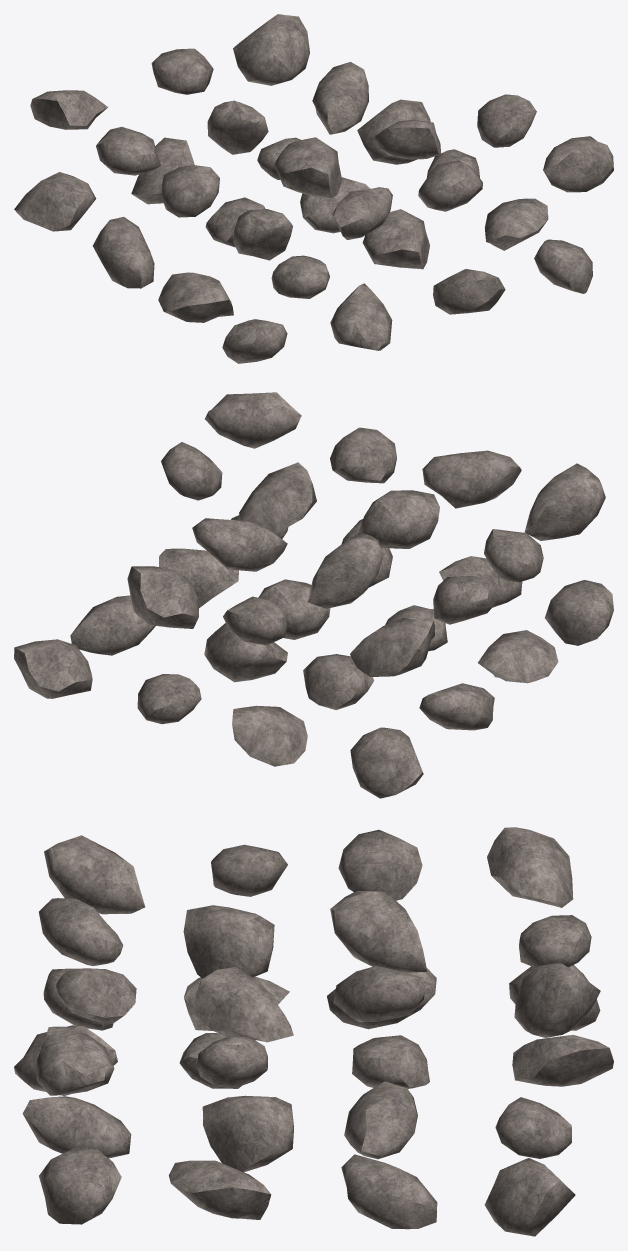
Rendered from FUN-PED-002_anim.glb.
3 renders of one model, top to bottom at view 1: azimuth 30°, elevation 25°; view 2: azimuth 150°, elevation 25°; view 3: azimuth 270°, elevation 25°, orthographic. The views are drawn at different scales.
Parts seen in each view (by area): view 1: FUN-PED-002_anim27, FUN-PED-002_anim3, FUN-PED-002_anim21, FUN-PED-002_anim2, FUN-PED-002_anim28, FUN-PED-002_anim26, FUN-PED-002_anim9, FUN-PED-002_anim4, FUN-PED-002_anim1, FUN-PED-002_anim8, FUN-PED-002_anim17, FUN-PED-002_anim22 (+18 smaller); view 2: FUN-PED-002_anim16, FUN-PED-002_anim20, FUN-PED-002_anim28, FUN-PED-002_anim3, FUN-PED-002_anim22, FUN-PED-002_anim27, FUN-PED-002_anim21, FUN-PED-002_anim7, FUN-PED-002_anim15, FUN-PED-002_anim19, FUN-PED-002_anim26, FUN-PED-002_anim25 (+17 smaller); view 3: FUN-PED-002_anim9, FUN-PED-002_anim22, FUN-PED-002_anim16, FUN-PED-002_anim21, FUN-PED-002_anim19, FUN-PED-002_anim25, FUN-PED-002_anim14, FUN-PED-002_anim12, FUN-PED-002_anim8, FUN-PED-002_anim15, FUN-PED-002_anim27, FUN-PED-002_anim18 (+18 smaller).
Boxes of the visible parts, bbox=[...] form: FUN-PED-002_anim27: bbox=[233, 14, 309, 85]; FUN-PED-002_anim3: bbox=[14, 172, 96, 231]; FUN-PED-002_anim21: bbox=[274, 137, 342, 197]; FUN-PED-002_anim2: bbox=[92, 217, 154, 288]; FUN-PED-002_anim28: bbox=[543, 136, 613, 192]; FUN-PED-002_anim26: bbox=[312, 62, 368, 134]; FUN-PED-002_anim9: bbox=[362, 209, 429, 269]; FUN-PED-002_anim4: bbox=[330, 283, 392, 350]; FUN-PED-002_anim1: bbox=[158, 272, 233, 322]; FUN-PED-002_anim8: bbox=[433, 269, 505, 314]; FUN-PED-002_anim17: bbox=[161, 165, 219, 217]; FUN-PED-002_anim22: bbox=[207, 100, 268, 154]; FUN-PED-002_anim16: bbox=[524, 463, 605, 540]; FUN-PED-002_anim20: bbox=[422, 450, 521, 508]; FUN-PED-002_anim28: bbox=[205, 392, 301, 448]; FUN-PED-002_anim3: bbox=[350, 727, 423, 798]; FUN-PED-002_anim22: bbox=[307, 532, 383, 608]; FUN-PED-002_anim27: bbox=[127, 566, 198, 628]; FUN-PED-002_anim21: bbox=[358, 490, 439, 548]; FUN-PED-002_anim7: bbox=[232, 705, 307, 766]; FUN-PED-002_anim15: bbox=[14, 639, 92, 698]; FUN-PED-002_anim19: bbox=[350, 617, 434, 676]; FUN-PED-002_anim26: bbox=[192, 518, 287, 571]; FUN-PED-002_anim25: bbox=[239, 462, 316, 532]; FUN-PED-002_anim9: bbox=[202, 1095, 293, 1172]; FUN-PED-002_anim22: bbox=[330, 890, 427, 972]; FUN-PED-002_anim16: bbox=[44, 835, 145, 914]; FUN-PED-002_anim21: bbox=[183, 905, 274, 978]; FUN-PED-002_anim19: bbox=[487, 827, 573, 907]; FUN-PED-002_anim25: bbox=[192, 967, 293, 1042]; FUN-PED-002_anim14: bbox=[341, 1154, 437, 1229]; FUN-PED-002_anim12: bbox=[39, 1147, 121, 1224]; FUN-PED-002_anim8: bbox=[22, 1096, 131, 1158]; FUN-PED-002_anim15: bbox=[484, 1158, 575, 1236]; FUN-PED-002_anim27: bbox=[514, 963, 600, 1037]; FUN-PED-002_anim18: bbox=[338, 829, 422, 900].
Size of the model in its own units: 1.89 by 0.7334 by 1.98.
Materials: 1 (1 with a texture image).
